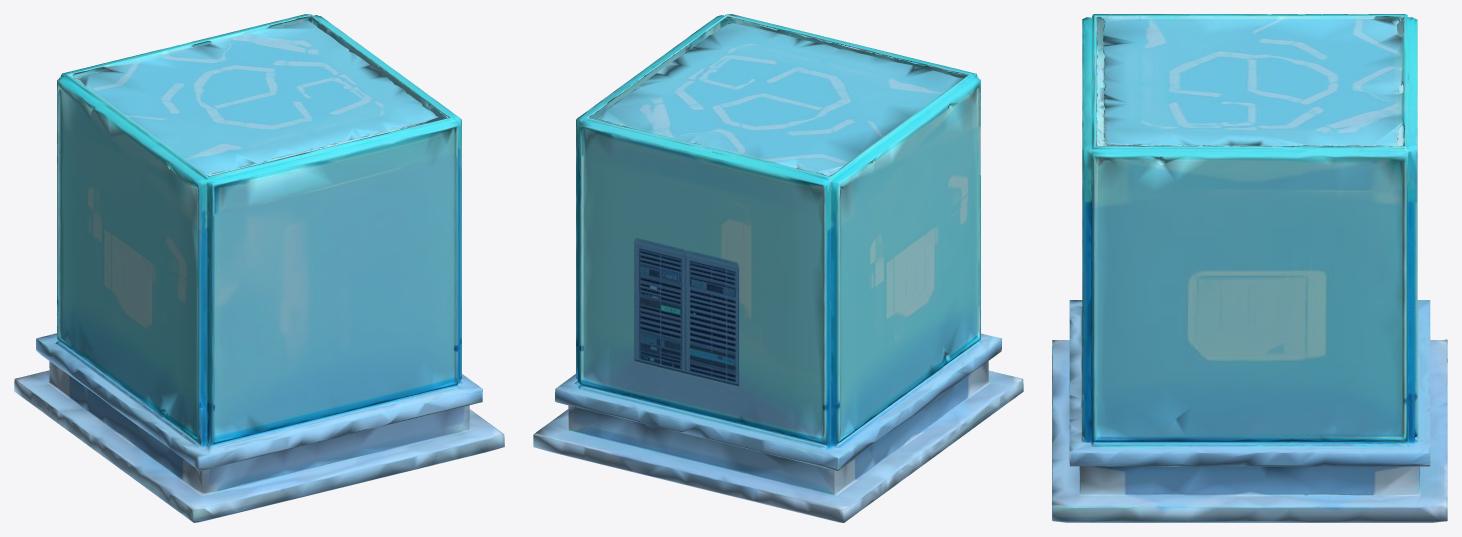
Rendered from upgrade.glb.
The picture shows the model from 3 angles, left to right: view 1: azimuth 30°, elevation 25°; view 2: azimuth 150°, elevation 25°; view 3: azimuth 270°, elevation 25°; orthographic projection. The views are drawn at different scales.
Visible parts, largest first — view 1: Mesh_0; view 2: Mesh_0; view 3: Mesh_0.
Boxes of the visible parts, left/top/right/bottom form: Mesh_0: left=14, top=14, right=504, bottom=522; Mesh_0: left=533, top=14, right=1023, bottom=522; Mesh_0: left=1052, top=14, right=1447, bottom=522.
Bounding box in the file's own units: 1.85 × 1.91 × 1.85.
Materials: 1 (1 with a texture image).
